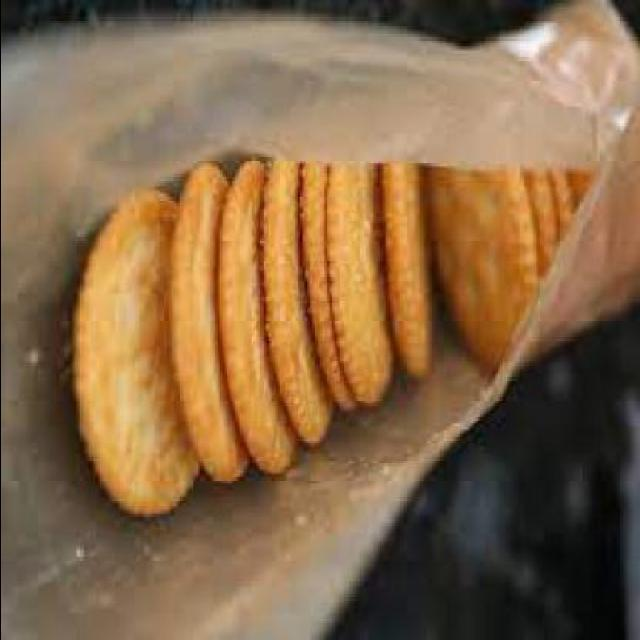Ritz cracker packaged: (47, 73, 630, 561)
